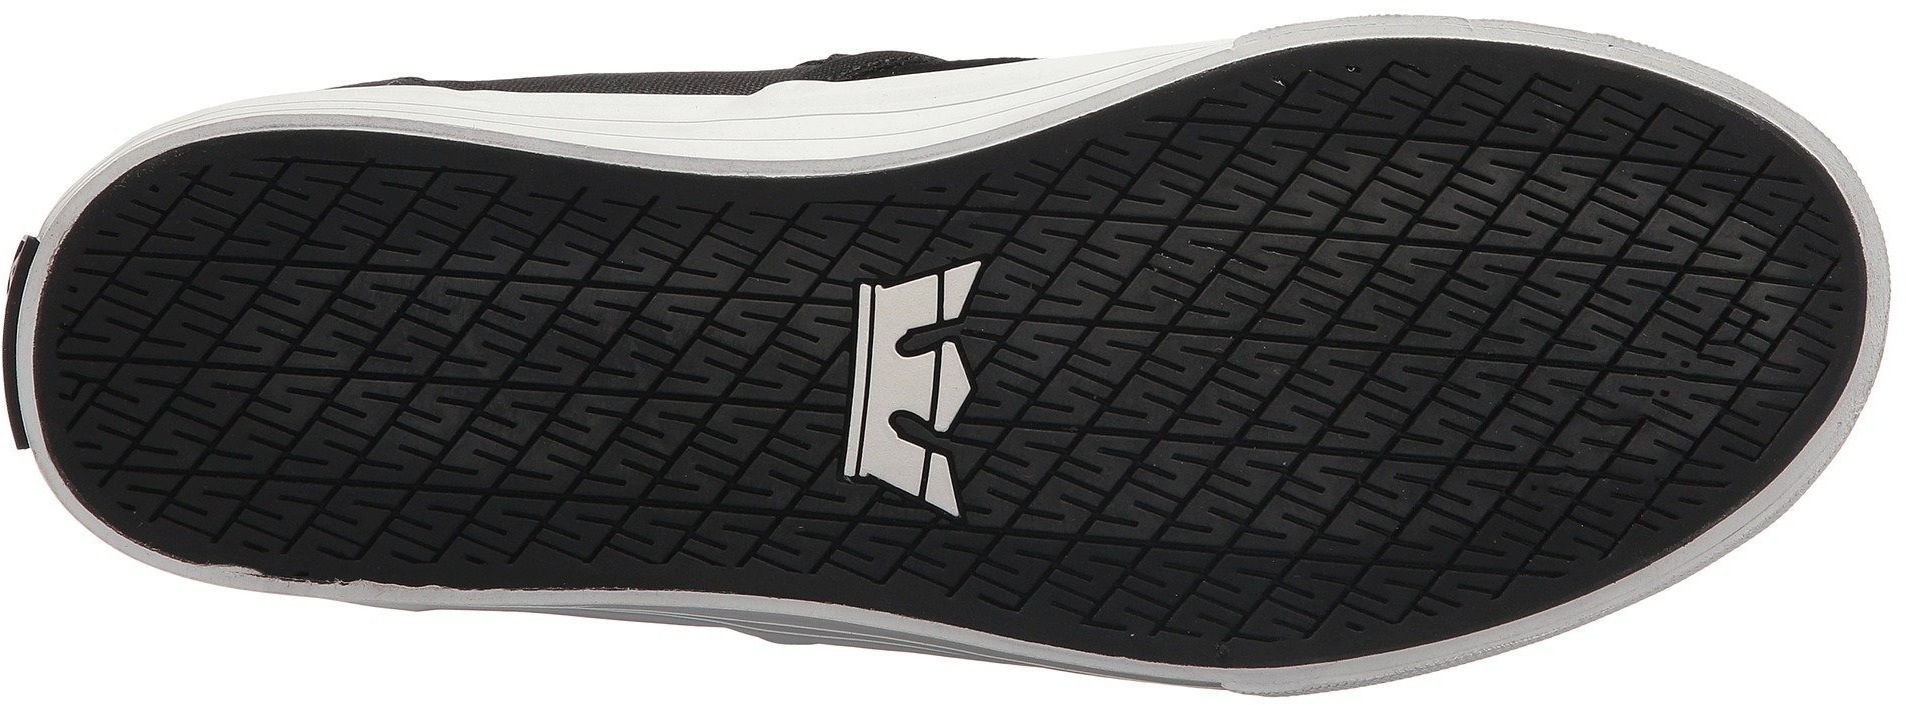chevron: (423, 211, 785, 562), (1440, 132, 1760, 483), (1041, 151, 1386, 470), (79, 231, 356, 493)
other: (824, 260, 1072, 523)
